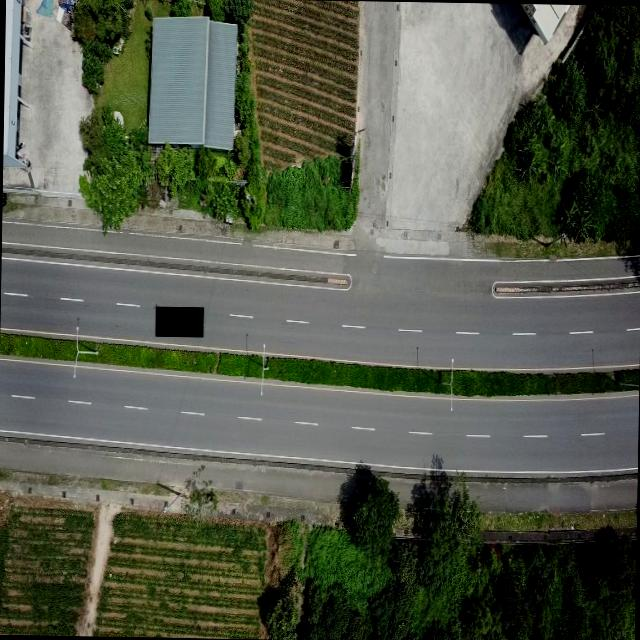bike: (15, 140, 26, 150)
